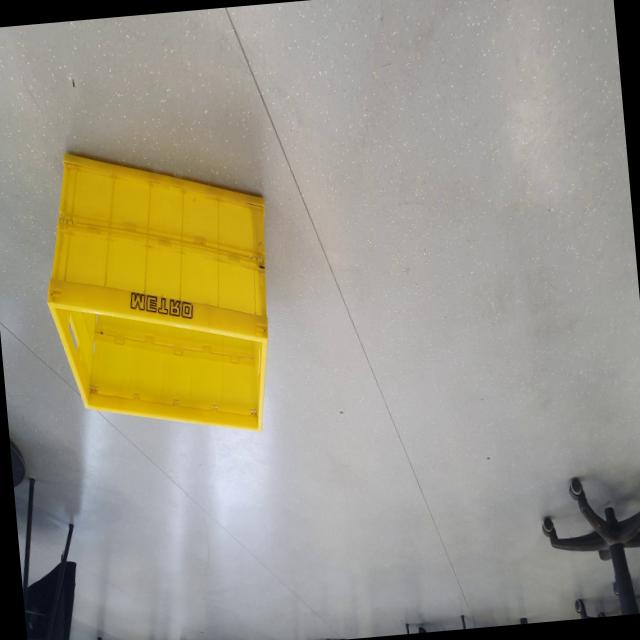box: (30, 129, 292, 456)
